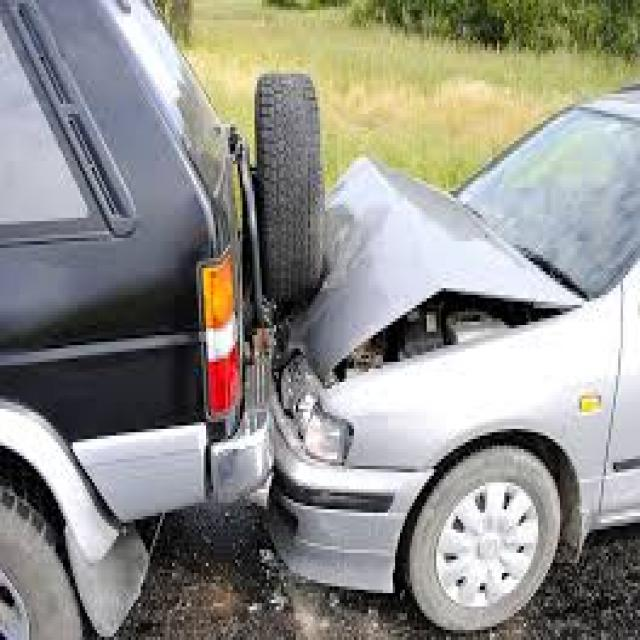accident: (57, 76, 585, 597)
